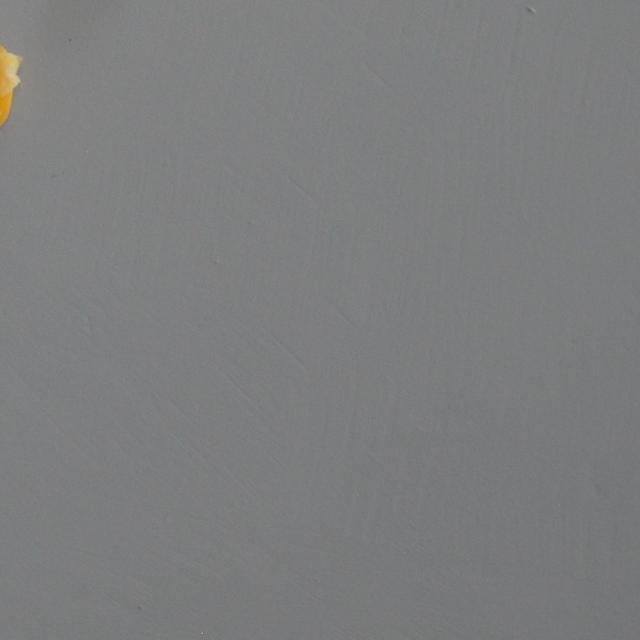pelicula: (0, 38, 22, 138)
